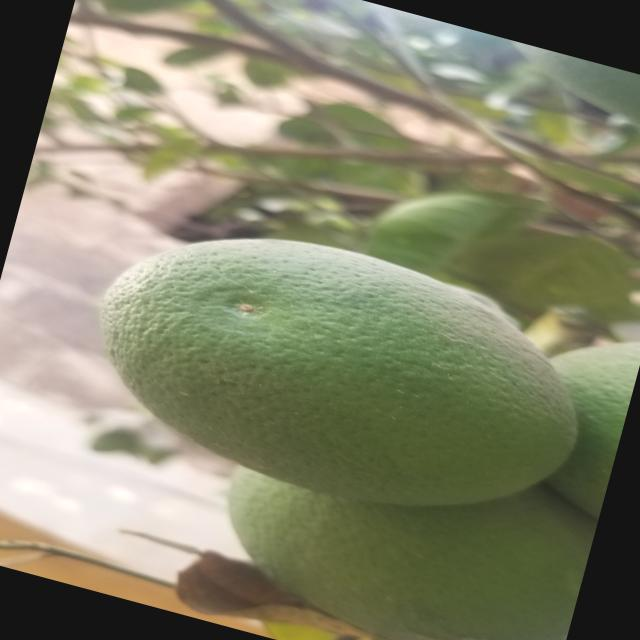Unripe: (75, 198, 600, 552), (197, 428, 593, 640), (509, 313, 640, 519)
